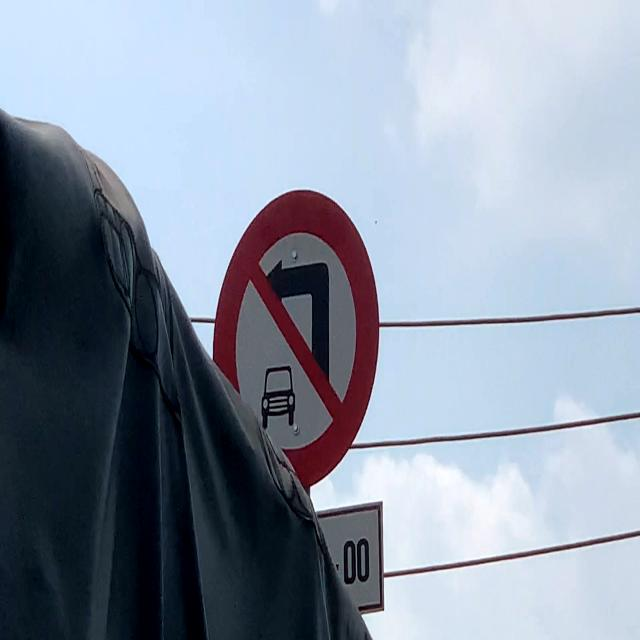P.103c: (201, 190, 380, 486)
